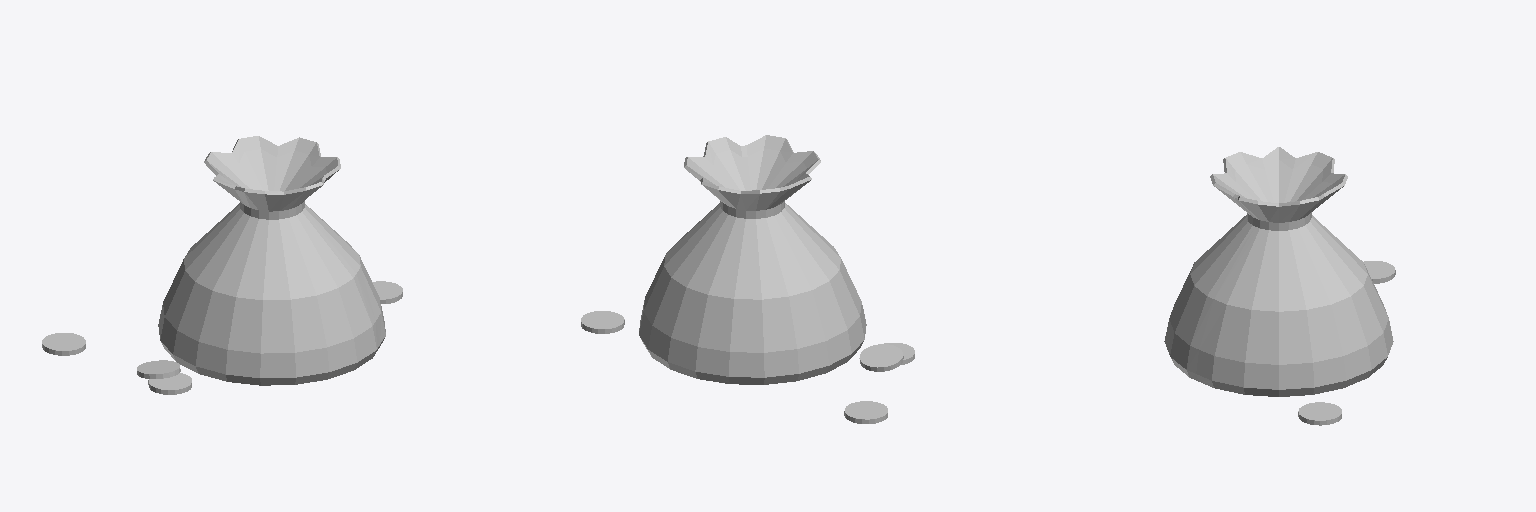
The model's file is Beutel.obj.
3 views of the same model, side by side, from view 1: azimuth 30°, elevation 25°; view 2: azimuth 150°, elevation 25°; view 3: azimuth 270°, elevation 25° (orthographic).
Parts seen in each view (by area): view 1: pCylinder1, group pasted__pasted__pCylinder3 pasted__group, pasted__pCylinder3 group, group pasted__pasted__pCylinder3 pasted__group1; view 2: pCylinder1, group pasted__pasted__pCylinder3 pasted__group1, pasted__pasted__pasted__pCylinder3 pasted__pasted__group pasted_, group pasted__pasted__pCylinder3 pasted__group; view 3: pCylinder1, pasted__pasted__pasted__pCylinder3 pasted__pasted__group pasted_, group pasted__pasted__pCylinder3 pasted__group.
Boxes of the visible parts, box(x1,y1,x2,y2) form: pCylinder1: box(158, 136, 385, 385); group pasted__pasted__pCylinder3 pasted__group: box(42, 333, 85, 355); pasted__pCylinder3 group: box(148, 373, 191, 394); group pasted__pasted__pCylinder3 pasted__group1: box(137, 360, 180, 378); pCylinder1: box(639, 135, 866, 384); group pasted__pasted__pCylinder3 pasted__group1: box(859, 344, 903, 371); pasted__pasted__pasted__pCylinder3 pasted__pasted__group pasted_: box(581, 311, 624, 333); group pasted__pasted__pCylinder3 pasted__group: box(844, 401, 887, 423); pCylinder1: box(1164, 147, 1393, 396); pasted__pasted__pasted__pCylinder3 pasted__pasted__group pasted_: box(1298, 402, 1341, 425); group pasted__pasted__pCylinder3 pasted__group: box(1364, 261, 1395, 283).
Size of the model in its own units: 3.45 by 1.8 by 2.1.